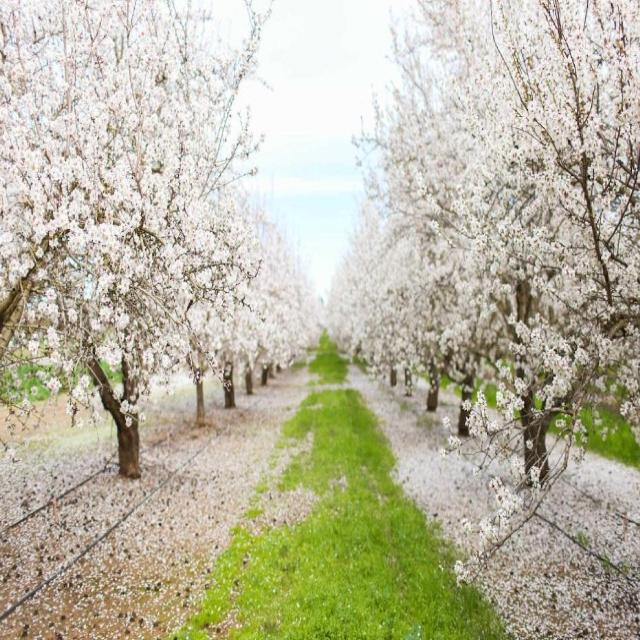row: (2, 350, 633, 626)
